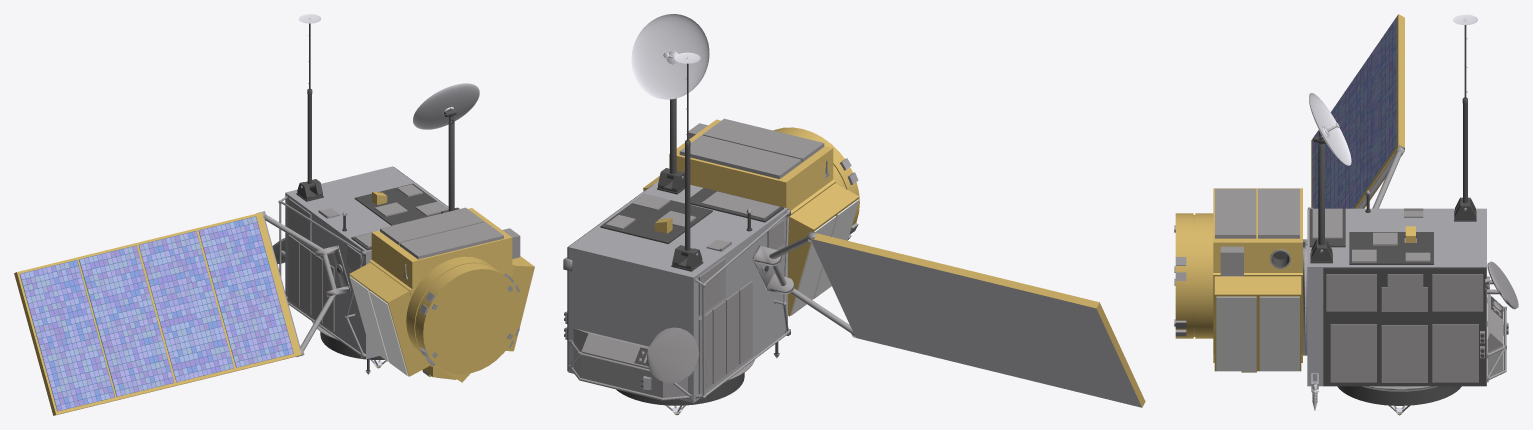
File: topex-poseidon.glb
3 renders of one model, left to right at view 1: azimuth 30°, elevation 25°; view 2: azimuth 150°, elevation 25°; view 3: azimuth 270°, elevation 25°, orthographic. The views are drawn at different scales.
Visible parts, largest first — view 1: Topex-Posidon-composite; view 2: Topex-Posidon-composite; view 3: Topex-Posidon-composite.
Boxes of the visible parts, <box> form: Topex-Posidon-composite: <box>14,14,534,415</box>; Topex-Posidon-composite: <box>563,14,1145,415</box>; Topex-Posidon-composite: <box>1174,14,1518,415</box>.
Bounding box in the file's own units: 373 × 277 × 230.
